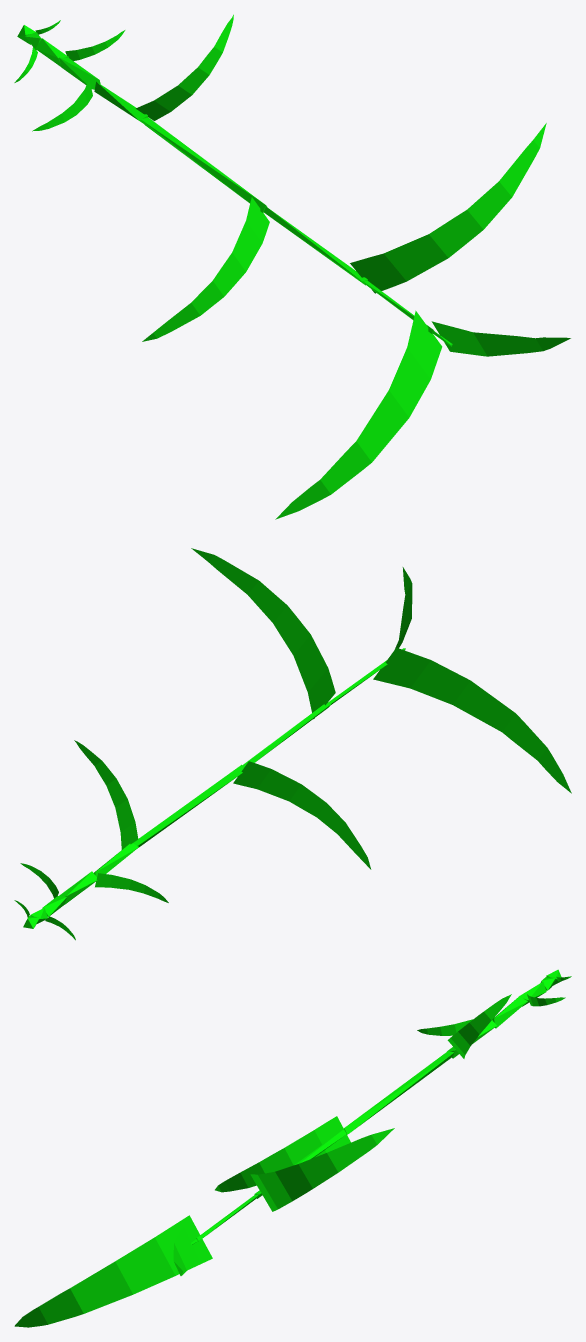
The model's file is usm_4_Beer_2018-08-27_0.obj.
3 views of the same model, one above another, from view 1: azimuth 30°, elevation 25°; view 2: azimuth 150°, elevation 25°; view 3: azimuth 330°, elevation 25° (orthographic). The views are drawn at different scales.
Visible parts, largest first — view 1: vid_18, vid_16, vid_14, vid_20, vid_12, vid_13, vid_15, vid_10; view 2: vid_18, vid_16, vid_14, vid_12, vid_13, vid_10, vid_20, vid_15; view 3: vid_18, vid_16, vid_14, vid_12, vid_13, vid_20.
Boxes of the visible parts, x1=… form: vid_18: x1=275, y1=310, x2=442, y2=519; vid_16: x1=350, y1=123, x2=546, y2=293; vid_14: x1=142, y1=197, x2=269, y2=341; vid_20: x1=431, y1=321, x2=570, y2=356; vid_12: x1=136, y1=14, x2=233, y2=120; vid_13: x1=141, y1=117, x2=266, y2=212; vid_15: x1=263, y1=206, x2=367, y2=285; vid_10: x1=32, y1=80, x2=92, y2=131; vid_18: x1=373, y1=647, x2=571, y2=793; vid_16: x1=191, y1=548, x2=335, y2=719; vid_14: x1=233, y1=761, x2=371, y2=869; vid_12: x1=74, y1=740, x2=138, y2=849; vid_13: x1=133, y1=764, x2=243, y2=847; vid_10: x1=95, y1=873, x2=168, y2=902; vid_20: x1=395, y1=567, x2=412, y2=648; vid_15: x1=242, y1=703, x2=331, y2=767; vid_18: x1=14, y1=1215, x2=212, y2=1327; vid_16: x1=250, y1=1128, x2=394, y2=1211; vid_14: x1=215, y1=1116, x2=350, y2=1192; vid_12: x1=447, y1=994, x2=511, y2=1058; vid_13: x1=344, y1=1051, x2=454, y2=1134; vid_20: x1=173, y1=1227, x2=199, y2=1275.
Bounding box in the file's own units: 101 × 69.25 × 242.
